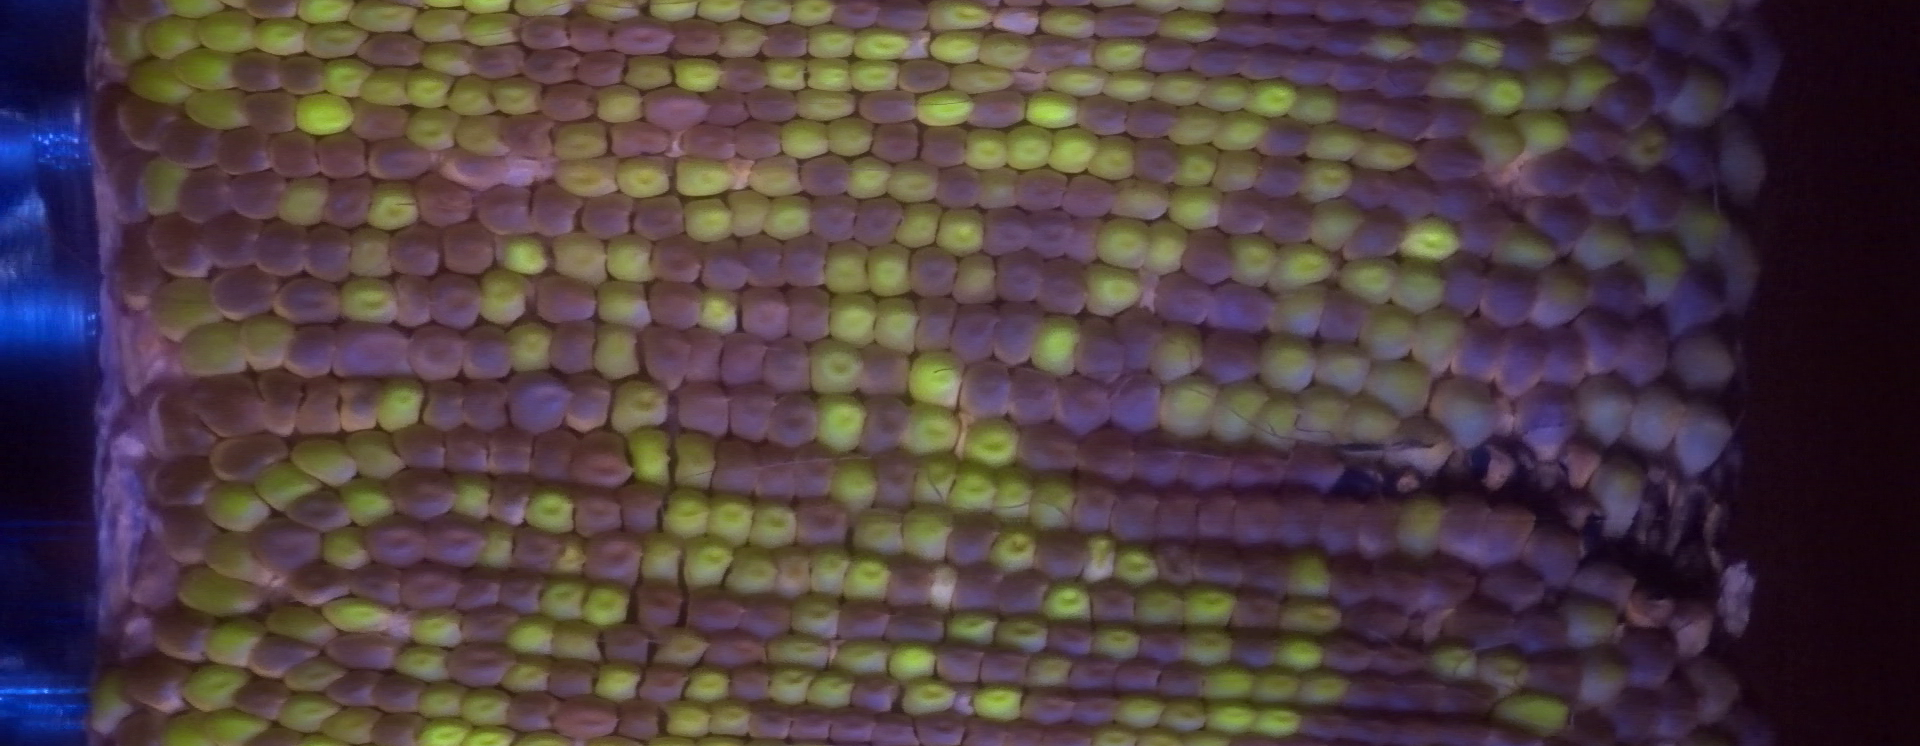fluorescent: (1427, 376, 1496, 443), (180, 567, 262, 619), (147, 278, 216, 338), (1674, 62, 1734, 131), (1674, 191, 1734, 260), (1591, 459, 1644, 535), (1085, 262, 1147, 323), (182, 322, 247, 377), (806, 334, 864, 393), (1571, 220, 1635, 274), (1635, 235, 1682, 305), (1562, 55, 1622, 110), (1311, 341, 1367, 401), (1164, 374, 1213, 441), (902, 402, 962, 456), (1487, 690, 1569, 729), (1215, 380, 1266, 442), (813, 392, 864, 454), (1365, 360, 1428, 412), (1253, 394, 1307, 453), (1417, 307, 1462, 377), (1333, 256, 1400, 304), (255, 464, 320, 512), (295, 91, 358, 140), (1537, 267, 1584, 331), (610, 379, 666, 432), (203, 530, 260, 584), (290, 439, 355, 485), (1265, 330, 1311, 394), (1488, 225, 1562, 266), (137, 156, 186, 217), (478, 267, 530, 323), (1360, 303, 1413, 359), (204, 481, 264, 530), (966, 418, 1020, 472), (1566, 593, 1622, 644), (93, 668, 138, 731), (262, 601, 336, 641), (590, 321, 638, 381), (125, 60, 191, 103), (595, 279, 651, 330), (905, 355, 961, 405), (206, 619, 264, 666), (1149, 322, 1201, 375), (555, 232, 606, 285), (1227, 230, 1276, 287), (373, 376, 424, 430), (1310, 200, 1360, 254), (182, 669, 247, 710), (553, 159, 622, 198), (899, 506, 945, 563), (846, 510, 905, 555), (1392, 258, 1444, 310), (242, 314, 289, 370), (672, 431, 716, 490), (681, 537, 733, 586), (365, 184, 419, 232), (936, 203, 983, 257), (948, 461, 996, 514), (144, 15, 200, 61), (347, 227, 393, 282), (869, 245, 916, 300), (280, 658, 348, 696), (174, 48, 231, 92), (1616, 122, 1667, 173), (618, 152, 671, 200), (582, 582, 634, 630), (340, 479, 394, 526), (751, 502, 804, 549), (200, 7, 255, 53), (348, 432, 403, 478), (1276, 246, 1331, 292), (991, 467, 1035, 523), (629, 425, 673, 481), (1427, 62, 1488, 103), (684, 192, 735, 241), (523, 485, 571, 537), (1095, 219, 1147, 266), (1401, 216, 1456, 260), (403, 609, 463, 649), (828, 240, 871, 296), (1400, 494, 1442, 550), (1341, 401, 1397, 443), (1051, 127, 1101, 175), (638, 530, 686, 581), (1172, 183, 1223, 229), (511, 321, 556, 374), (830, 454, 876, 507), (1030, 465, 1067, 530), (1358, 134, 1420, 171), (980, 29, 1035, 72), (340, 281, 396, 323), (1114, 178, 1169, 220), (804, 540, 847, 595), (673, 158, 733, 197), (1144, 220, 1185, 277), (1580, 647, 1621, 703), (1515, 111, 1571, 153), (765, 194, 814, 241), (1476, 69, 1522, 119), (887, 162, 940, 205), (951, 254, 994, 307), (324, 598, 394, 631), (347, 4, 419, 36), (748, 156, 803, 197), (828, 295, 876, 343), (659, 488, 708, 534), (790, 590, 840, 636), (1455, 32, 1505, 77), (947, 61, 1013, 96), (404, 110, 462, 149), (550, 121, 607, 160), (206, 706, 263, 745), (102, 7, 142, 62), (729, 543, 775, 590), (1300, 382, 1347, 430), (1171, 140, 1220, 185), (507, 614, 556, 659), (1036, 1, 1098, 37), (1545, 17, 1596, 61), (1133, 583, 1184, 626), (1300, 160, 1352, 203), (1278, 595, 1344, 628), (1155, 6, 1218, 40), (606, 236, 654, 282), (896, 203, 945, 247), (1183, 586, 1232, 630), (825, 118, 876, 160), (1479, 116, 1522, 167), (876, 295, 913, 352), (159, 708, 216, 746), (1304, 124, 1360, 162), (185, 92, 245, 127), (1199, 73, 1251, 114), (991, 523, 1035, 571), (778, 115, 827, 158), (304, 24, 362, 60), (271, 695, 336, 726), (765, 628, 828, 661), (1286, 545, 1330, 592), (362, 69, 411, 110), (1220, 111, 1269, 153), (975, 684, 1024, 725), (1523, 58, 1565, 107), (1155, 69, 1205, 109), (849, 59, 904, 96), (918, 452, 955, 507), (655, 628, 710, 665), (253, 18, 305, 58), (460, 12, 519, 47), (418, 682, 469, 722), (1474, 650, 1526, 690), (965, 127, 1011, 170), (1275, 630, 1322, 671), (456, 120, 506, 159), (926, 2, 996, 31), (542, 578, 587, 622), (836, 639, 893, 674), (1213, 149, 1261, 190), (900, 677, 954, 713), (1027, 89, 1078, 127), (590, 660, 640, 698), (1011, 127, 1054, 171), (322, 528, 365, 572), (396, 644, 447, 681), (280, 180, 326, 222), (920, 87, 972, 122), (1205, 696, 1258, 731), (1248, 78, 1298, 115), (1091, 137, 1134, 180), (407, 70, 451, 111), (846, 157, 890, 198), (453, 73, 493, 119), (927, 28, 982, 61), (1173, 107, 1221, 145), (1043, 583, 1091, 621), (997, 614, 1044, 652), (489, 78, 538, 115), (702, 505, 751, 541), (1367, 24, 1416, 61), (1114, 541, 1155, 586), (767, 663, 811, 703), (1207, 664, 1251, 704), (327, 59, 372, 98), (847, 549, 887, 594), (452, 470, 490, 517), (951, 612, 998, 650), (624, 56, 676, 91), (1048, 64, 1108, 93), (672, 58, 720, 94), (853, 29, 909, 61), (1116, 695, 1164, 730), (1300, 666, 1344, 706), (808, 22, 853, 60), (804, 58, 850, 96), (324, 708, 378, 740), (720, 20, 767, 56), (811, 668, 851, 709), (413, 9, 465, 40), (1093, 39, 1146, 71), (1185, 628, 1229, 666), (422, 40, 473, 73), (497, 236, 547, 269), (1104, 66, 1155, 99), (800, 89, 858, 118), (732, 190, 767, 238), (667, 701, 710, 739), (509, 659, 553, 696), (1296, 88, 1340, 125), (700, 287, 736, 332), (481, 523, 516, 570), (1085, 534, 1118, 582), (891, 646, 938, 679), (1254, 668, 1300, 701), (1026, 650, 1068, 687), (686, 668, 731, 699), (464, 688, 504, 724), (1092, 625, 1138, 655), (767, 58, 806, 91), (1430, 650, 1474, 680), (553, 534, 584, 575), (792, 4, 840, 29), (1258, 702, 1296, 734), (1164, 698, 1204, 729), (301, 1, 353, 24), (710, 703, 749, 733), (1419, 2, 1464, 27), (742, 1, 789, 24), (588, 1, 639, 20), (517, 2, 571, 20)
nonfluorescent: (1515, 387, 1577, 469), (144, 506, 220, 570), (193, 372, 266, 439), (1665, 267, 1731, 338), (1716, 121, 1768, 205), (1433, 377, 1493, 450), (389, 464, 456, 529), (1390, 415, 1447, 488), (1744, 24, 1787, 121), (253, 517, 320, 579), (1678, 394, 1728, 477), (108, 235, 159, 315), (1573, 370, 1633, 437), (146, 213, 211, 274), (142, 398, 211, 454), (119, 655, 189, 710), (1675, 336, 1734, 401), (1618, 314, 1670, 386), (200, 212, 261, 273), (506, 372, 571, 430), (1524, 518, 1577, 588), (1700, 26, 1746, 104), (1495, 322, 1545, 394), (1441, 601, 1515, 650), (209, 269, 276, 323), (1200, 326, 1261, 383), (1480, 265, 1536, 328), (1593, 73, 1651, 134), (1076, 425, 1131, 488), (1014, 423, 1078, 477), (91, 85, 133, 164), (245, 636, 322, 680), (1056, 374, 1111, 435), (1074, 311, 1123, 380), (1516, 151, 1586, 198), (156, 603, 213, 660), (1630, 390, 1685, 450), (336, 325, 407, 371), (1580, 305, 1626, 376), (114, 100, 175, 154), (642, 326, 693, 390), (1689, 660, 1740, 724), (153, 454, 212, 510), (444, 641, 511, 690), (1441, 250, 1485, 323), (1344, 208, 1407, 260), (1625, 630, 1676, 692), (564, 367, 613, 432), (1149, 265, 1205, 321), (735, 284, 791, 341), (284, 489, 358, 532), (1629, 170, 1680, 232), (432, 272, 482, 334), (640, 86, 708, 132), (1442, 492, 1487, 563), (857, 341, 912, 397), (408, 323, 462, 381), (945, 511, 999, 568), (947, 560, 1004, 614), (430, 514, 489, 567), (129, 552, 180, 612), (1284, 440, 1344, 491), (399, 561, 465, 608), (993, 303, 1041, 366), (178, 169, 231, 225), (959, 363, 1015, 416), (574, 434, 631, 488), (414, 176, 473, 228), (1106, 380, 1164, 431), (1207, 283, 1272, 330), (1524, 649, 1586, 698), (1477, 560, 1540, 606), (675, 387, 733, 437), (1526, 200, 1584, 250), (1640, 50, 1685, 115), (1453, 318, 1499, 383), (296, 375, 340, 441), (1340, 600, 1406, 644), (715, 441, 765, 499), (1668, 121, 1711, 189), (255, 220, 304, 279), (534, 274, 593, 323), (218, 127, 278, 175), (462, 326, 514, 380), (545, 321, 598, 375), (1375, 559, 1427, 614), (1565, 110, 1627, 156), (1009, 366, 1059, 423), (1588, 159, 1637, 217), (369, 517, 427, 565), (1155, 490, 1202, 549), (1647, 5, 1693, 65), (1131, 434, 1184, 486), (1482, 508, 1534, 561), (356, 29, 425, 70), (384, 225, 438, 277), (475, 183, 531, 232), (869, 453, 918, 510), (276, 279, 342, 321), (1543, 323, 1584, 390), (328, 631, 400, 669), (1180, 227, 1227, 285), (1395, 710, 1488, 740), (1431, 176, 1495, 219), (860, 393, 905, 453), (444, 222, 495, 276), (444, 148, 509, 190), (555, 697, 620, 739), (264, 131, 320, 180), (951, 305, 996, 366), (208, 441, 293, 473), (1379, 92, 1435, 140), (262, 370, 301, 439), (906, 245, 958, 296), (793, 496, 845, 548), (765, 337, 816, 390), (1425, 557, 1476, 610), (315, 131, 369, 180), (996, 254, 1044, 307), (980, 208, 1035, 256), (1229, 443, 1284, 491), (729, 383, 771, 445), (580, 537, 642, 579), (1656, 671, 1696, 736), (740, 232, 786, 288), (719, 332, 765, 388), (769, 392, 816, 448), (1282, 491, 1327, 549), (1356, 499, 1400, 557), (1325, 559, 1376, 609), (165, 119, 220, 165), (302, 225, 349, 281), (885, 552, 932, 608), (1244, 545, 1291, 600), (366, 142, 431, 181), (531, 429, 576, 486), (1577, 560, 1635, 604), (1196, 540, 1247, 590), (807, 197, 858, 246), (285, 326, 334, 377), (741, 588, 790, 639), (534, 184, 580, 238), (1042, 261, 1089, 315), (580, 190, 636, 235), (228, 176, 285, 219), (649, 281, 698, 331), (460, 381, 509, 431), (997, 568, 1048, 616), (1600, 27, 1652, 75), (1594, 268, 1646, 316), (609, 18, 671, 58), (609, 118, 667, 159), (1120, 311, 1160, 374), (293, 562, 355, 601), (1416, 142, 1487, 176), (349, 99, 405, 142), (1113, 489, 1156, 545), (324, 179, 373, 228), (1030, 209, 1079, 258), (1033, 530, 1082, 579), (691, 584, 741, 632), (1071, 478, 1113, 535), (350, 560, 404, 604), (785, 235, 828, 290), (792, 445, 835, 500), (1515, 611, 1575, 650), (1026, 31, 1075, 78), (501, 110, 552, 156), (460, 604, 518, 644), (888, 601, 945, 642), (1191, 40, 1253, 78), (1322, 635, 1375, 679), (336, 381, 378, 435), (615, 699, 669, 742), (231, 676, 287, 718), (323, 669, 378, 710), (1220, 187, 1269, 234), (1244, 45, 1300, 86), (757, 443, 797, 500), (1184, 439, 1229, 489), (651, 239, 703, 283), (1013, 167, 1065, 209), (242, 89, 296, 131), (1065, 174, 1119, 216), (393, 425, 448, 465), (703, 239, 749, 287), (1498, 20, 1545, 66), (485, 428, 534, 473), (599, 620, 648, 665), (1266, 195, 1311, 244), (1076, 94, 1127, 138), (576, 488, 620, 538), (513, 528, 564, 571), (705, 633, 765, 670), (1260, 114, 1311, 157), (638, 665, 691, 707), (682, 125, 736, 165), (857, 195, 902, 243), (1193, 495, 1240, 540), (966, 91, 1025, 127), (920, 125, 970, 168), (504, 690, 556, 731), (1609, 699, 1660, 741), (1236, 499, 1282, 544), (749, 701, 796, 746), (632, 192, 680, 236), (1232, 630, 1280, 674), (620, 483, 664, 530), (1322, 15, 1371, 58), (1068, 657, 1123, 695), (487, 474, 528, 526), (444, 426, 490, 472), (1319, 507, 1364, 552), (1091, 579, 1135, 626), (1253, 157, 1307, 195), (800, 156, 849, 197), (1284, 48, 1333, 89), (1127, 99, 1177, 140), (1381, 62, 1434, 100), (278, 53, 324, 96), (936, 167, 982, 209), (913, 301, 956, 348), (637, 579, 680, 626), (579, 48, 627, 89), (936, 642, 983, 684), (1434, 681, 1496, 713), (467, 47, 527, 80), (1217, 10, 1271, 47), (1431, 99, 1480, 140), (1393, 171, 1434, 220), (542, 83, 594, 121), (1130, 137, 1176, 180), (687, 332, 724, 385), (375, 674, 427, 710), (1374, 636, 1427, 673), (1266, 15, 1322, 49), (849, 673, 898, 712), (898, 58, 948, 96), (978, 646, 1029, 684), (1332, 93, 1382, 131), (858, 89, 916, 122), (759, 24, 811, 61), (791, 292, 828, 343), (1155, 541, 1198, 586), (496, 570, 538, 615), (1344, 671, 1386, 717), (1462, 209, 1502, 256), (673, 18, 721, 58), (1068, 690, 1116, 729), (1092, 9, 1158, 37), (396, 274, 433, 323), (1384, 675, 1438, 709), (1044, 621, 1095, 658), (878, 1, 936, 33), (234, 50, 279, 91), (1236, 584, 1276, 630), (1144, 38, 1195, 73), (1022, 690, 1074, 725), (425, 381, 463, 429), (524, 48, 577, 82), (1135, 624, 1184, 660), (917, 710, 967, 746), (1331, 59, 1385, 92), (1412, 20, 1457, 59), (735, 122, 781, 160), (552, 660, 599, 698), (838, 601, 890, 635), (827, 706, 872, 744), (873, 124, 920, 160), (457, 571, 503, 608), (746, 87, 797, 120), (872, 710, 920, 746), (791, 706, 834, 745), (564, 15, 609, 51), (719, 58, 768, 91), (1071, 216, 1104, 265), (1116, 660, 1160, 697), (730, 661, 771, 699), (371, 713, 421, 744), (1156, 664, 1204, 695), (1348, 170, 1400, 198), (1346, 710, 1396, 739), (707, 89, 746, 124), (520, 16, 566, 45), (835, 1, 882, 29), (1302, 710, 1349, 737), (962, 717, 1000, 746), (996, 9, 1035, 33)
